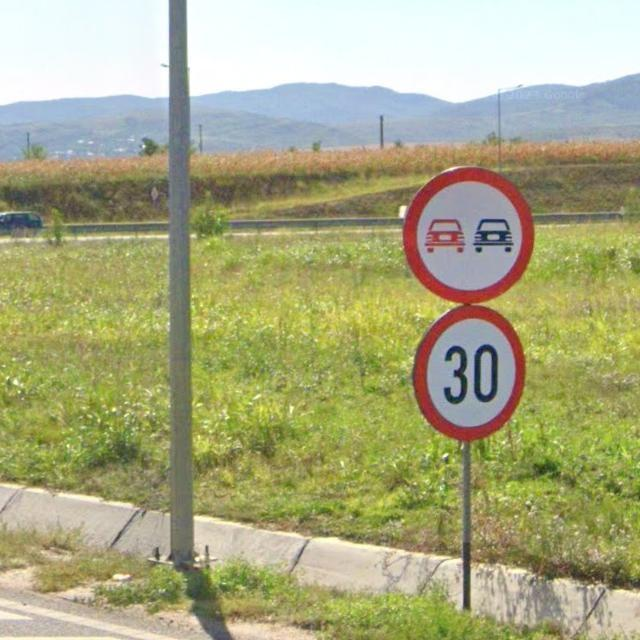forb_overtake: (404, 167, 537, 304)
forb_speed_over_30: (409, 303, 527, 441)
